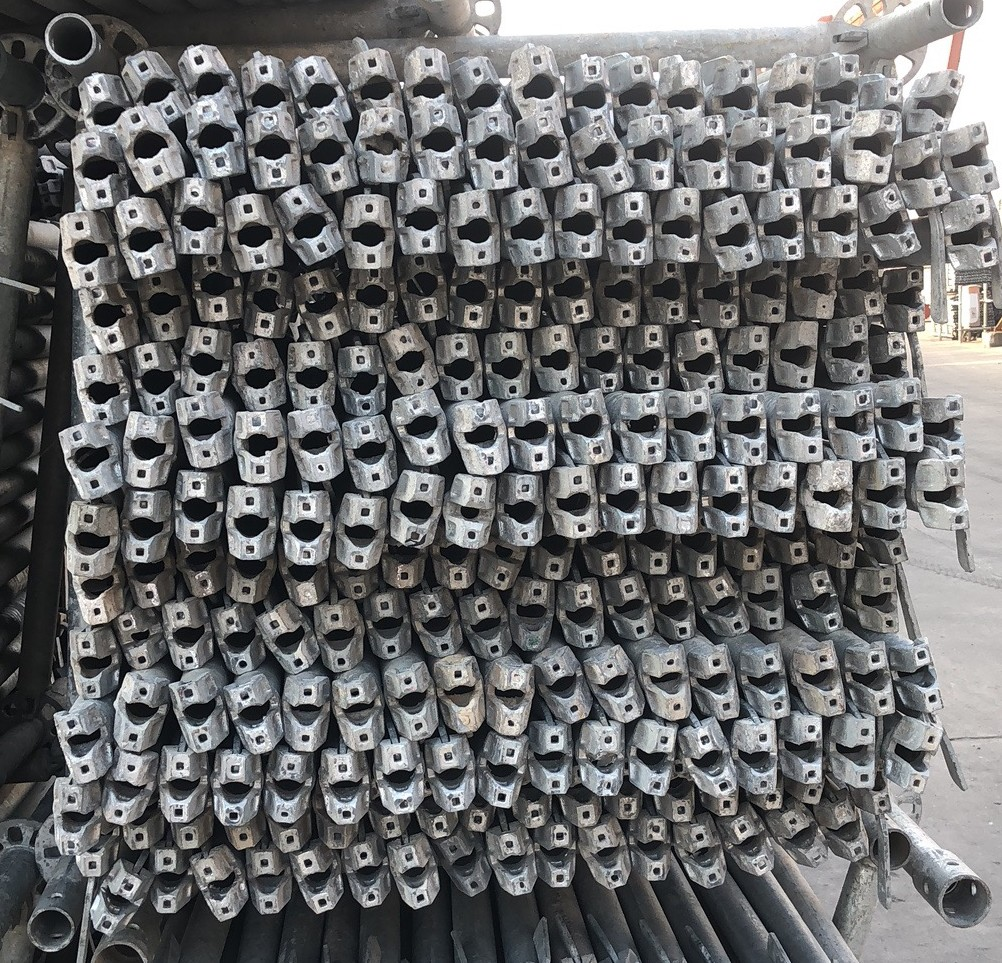NHsquare_steel: (663, 55, 707, 117), (819, 460, 853, 531), (808, 260, 841, 319)
THsquare_steel: (120, 111, 175, 191), (115, 200, 169, 280), (122, 43, 183, 113), (55, 425, 109, 502), (190, 99, 241, 178), (283, 187, 336, 262), (714, 191, 762, 272), (63, 210, 111, 291), (247, 111, 297, 188), (66, 133, 116, 210), (510, 46, 567, 112), (579, 121, 635, 188), (504, 189, 553, 264), (75, 289, 133, 352), (308, 115, 354, 193), (231, 193, 277, 271), (872, 185, 921, 258), (287, 411, 337, 482), (524, 111, 571, 186), (417, 100, 462, 178), (177, 37, 237, 95), (905, 135, 954, 206), (122, 414, 169, 488), (458, 400, 506, 472), (350, 42, 403, 107), (396, 396, 445, 466), (590, 656, 641, 722), (89, 872, 140, 938), (131, 340, 177, 413), (456, 188, 499, 266), (566, 53, 616, 120), (793, 113, 837, 189), (176, 399, 224, 468), (472, 110, 515, 187), (387, 326, 436, 393), (72, 354, 118, 425), (614, 53, 664, 118), (299, 269, 346, 338), (234, 412, 279, 484), (541, 656, 590, 722), (359, 108, 402, 183), (860, 111, 905, 182), (820, 183, 862, 259), (685, 115, 727, 191), (292, 53, 345, 113), (962, 193, 1002, 272), (286, 490, 327, 567), (176, 180, 218, 255), (689, 728, 734, 798), (915, 67, 962, 134), (459, 52, 511, 112), (717, 56, 767, 118), (349, 194, 389, 271), (403, 180, 444, 255), (227, 485, 268, 560), (137, 278, 188, 338), (349, 420, 392, 491), (260, 612, 310, 673), (108, 753, 150, 825), (227, 686, 272, 753), (54, 713, 97, 783), (764, 189, 806, 260), (736, 116, 775, 192), (614, 189, 652, 267), (399, 472, 437, 550), (960, 121, 1001, 193), (176, 470, 215, 544), (75, 70, 123, 130), (778, 54, 823, 118), (571, 390, 611, 462), (408, 39, 455, 100), (388, 672, 431, 738), (337, 681, 378, 750), (400, 256, 444, 320), (676, 392, 718, 459), (193, 861, 239, 922), (120, 680, 158, 753), (441, 335, 483, 401), (807, 646, 846, 717), (172, 683, 213, 750), (124, 489, 161, 563), (454, 475, 492, 547), (440, 663, 478, 735), (752, 647, 790, 719), (780, 810, 828, 867), (488, 333, 530, 398), (215, 607, 257, 672), (441, 838, 488, 896), (188, 326, 228, 394), (565, 186, 602, 259), (324, 756, 362, 827), (242, 52, 290, 108), (641, 117, 677, 191), (515, 396, 552, 468), (904, 722, 941, 794), (431, 741, 469, 811), (859, 648, 898, 716), (394, 845, 434, 911), (162, 605, 203, 669), (823, 53, 861, 122), (465, 595, 507, 657), (193, 255, 233, 320), (730, 816, 774, 875), (70, 507, 107, 577), (244, 342, 282, 410), (452, 267, 493, 330), (650, 653, 689, 719), (347, 844, 387, 908), (344, 346, 381, 415), (378, 746, 416, 813), (563, 466, 598, 538), (655, 577, 695, 640), (294, 851, 334, 914), (683, 827, 725, 887), (785, 322, 822, 390), (630, 392, 666, 461), (704, 651, 740, 720), (540, 329, 580, 391), (417, 594, 457, 656), (343, 496, 378, 566), (683, 332, 723, 393), (296, 342, 332, 409), (669, 190, 701, 265), (248, 269, 283, 337), (493, 666, 527, 736), (735, 395, 771, 461), (633, 324, 668, 391), (490, 741, 524, 809), (290, 682, 323, 752), (613, 463, 645, 535), (650, 264, 689, 323), (114, 614, 155, 670), (369, 597, 406, 659), (737, 326, 771, 393), (218, 756, 251, 825), (745, 724, 778, 793), (508, 475, 540, 546), (356, 270, 392, 333), (503, 266, 539, 329), (757, 260, 793, 323), (496, 835, 533, 896), (895, 376, 925, 451), (321, 605, 354, 673), (513, 582, 546, 650), (565, 581, 599, 647), (829, 802, 867, 861), (706, 578, 746, 634), (614, 578, 650, 640), (589, 830, 628, 887), (839, 318, 872, 385), (908, 645, 941, 712), (644, 726, 676, 795), (805, 569, 840, 632), (591, 726, 622, 797), (668, 461, 698, 534), (716, 467, 747, 537), (270, 752, 301, 822), (877, 460, 908, 529), (74, 633, 106, 699), (606, 265, 640, 327), (848, 390, 878, 460), (558, 262, 592, 323), (166, 754, 196, 823), (770, 461, 798, 534), (541, 827, 574, 888), (589, 328, 621, 390), (794, 393, 823, 461), (941, 459, 968, 531), (69, 580, 113, 623), (151, 851, 181, 914), (897, 265, 925, 331), (542, 728, 570, 794), (707, 273, 741, 327), (936, 395, 965, 458), (57, 785, 83, 855), (851, 261, 884, 316), (873, 567, 900, 634), (226, 560, 268, 603), (250, 853, 279, 915), (641, 820, 670, 882), (181, 549, 219, 596), (797, 719, 824, 785), (125, 565, 168, 606), (848, 721, 874, 788), (757, 570, 786, 629), (435, 548, 476, 589), (633, 535, 675, 574), (584, 537, 625, 575), (533, 542, 573, 580), (485, 547, 520, 589), (880, 334, 912, 378), (385, 551, 424, 587), (682, 536, 715, 576), (337, 566, 377, 598), (517, 785, 546, 828), (871, 531, 908, 564), (569, 790, 601, 826), (827, 531, 858, 568), (736, 537, 766, 570), (778, 535, 811, 564)
